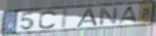5: (19, 12, 36, 31)
A: (75, 7, 100, 28), (116, 5, 140, 26)
C: (37, 10, 58, 30)
I: (60, 8, 70, 30)
N: (98, 6, 119, 27)
